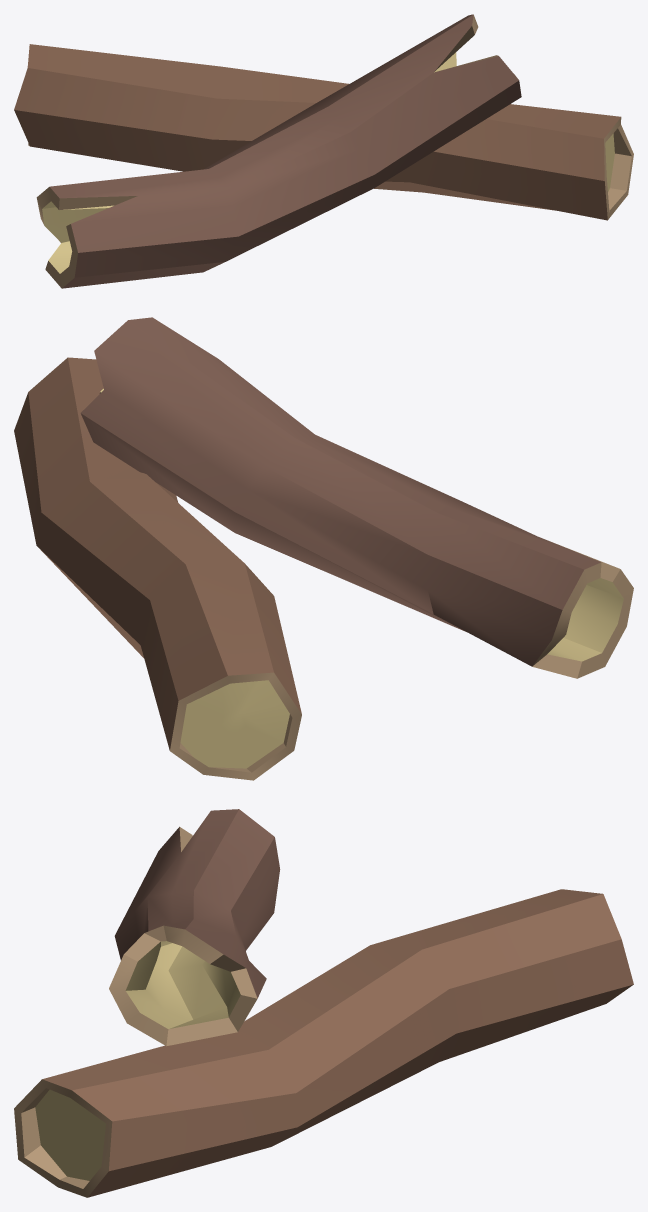
The model's file is Trunks__Stumps_Pack_Tree_trunk_01.003.fbx.
The picture shows the model from 3 angles, top to bottom: view 1: azimuth 30°, elevation 25°; view 2: azimuth 150°, elevation 25°; view 3: azimuth 270°, elevation 25°; orthographic projection. The views are drawn at different scales.
Visible parts, largest first — view 1: Trunks__Stumps_Pack_Tree_trunk_01.003; view 2: Trunks__Stumps_Pack_Tree_trunk_01.003; view 3: Trunks__Stumps_Pack_Tree_trunk_01.003.
Boxes of the visible parts, <box> form: Trunks__Stumps_Pack_Tree_trunk_01.003: <box>14,14,633,288</box>; Trunks__Stumps_Pack_Tree_trunk_01.003: <box>14,317,633,780</box>; Trunks__Stumps_Pack_Tree_trunk_01.003: <box>14,809,633,1197</box>.
Size of the model in its own units: 124 by 41.81 by 107.
